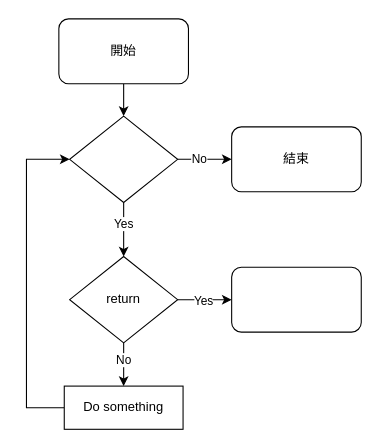
The diagram is 380 pixels wide and 448 high, and some of its shapes have lost their labels. The centre of each missing label's shape, as x and y in pixels:
"是否符合條件" belongs at (123,158).
"結束2" belongs at (296,299).
